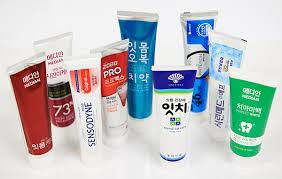toothpaste: (4, 55, 54, 166), (62, 53, 105, 166), (116, 7, 156, 127), (91, 43, 136, 146), (151, 64, 191, 170), (35, 34, 77, 130), (231, 66, 272, 164), (179, 9, 211, 122), (210, 27, 233, 142)
